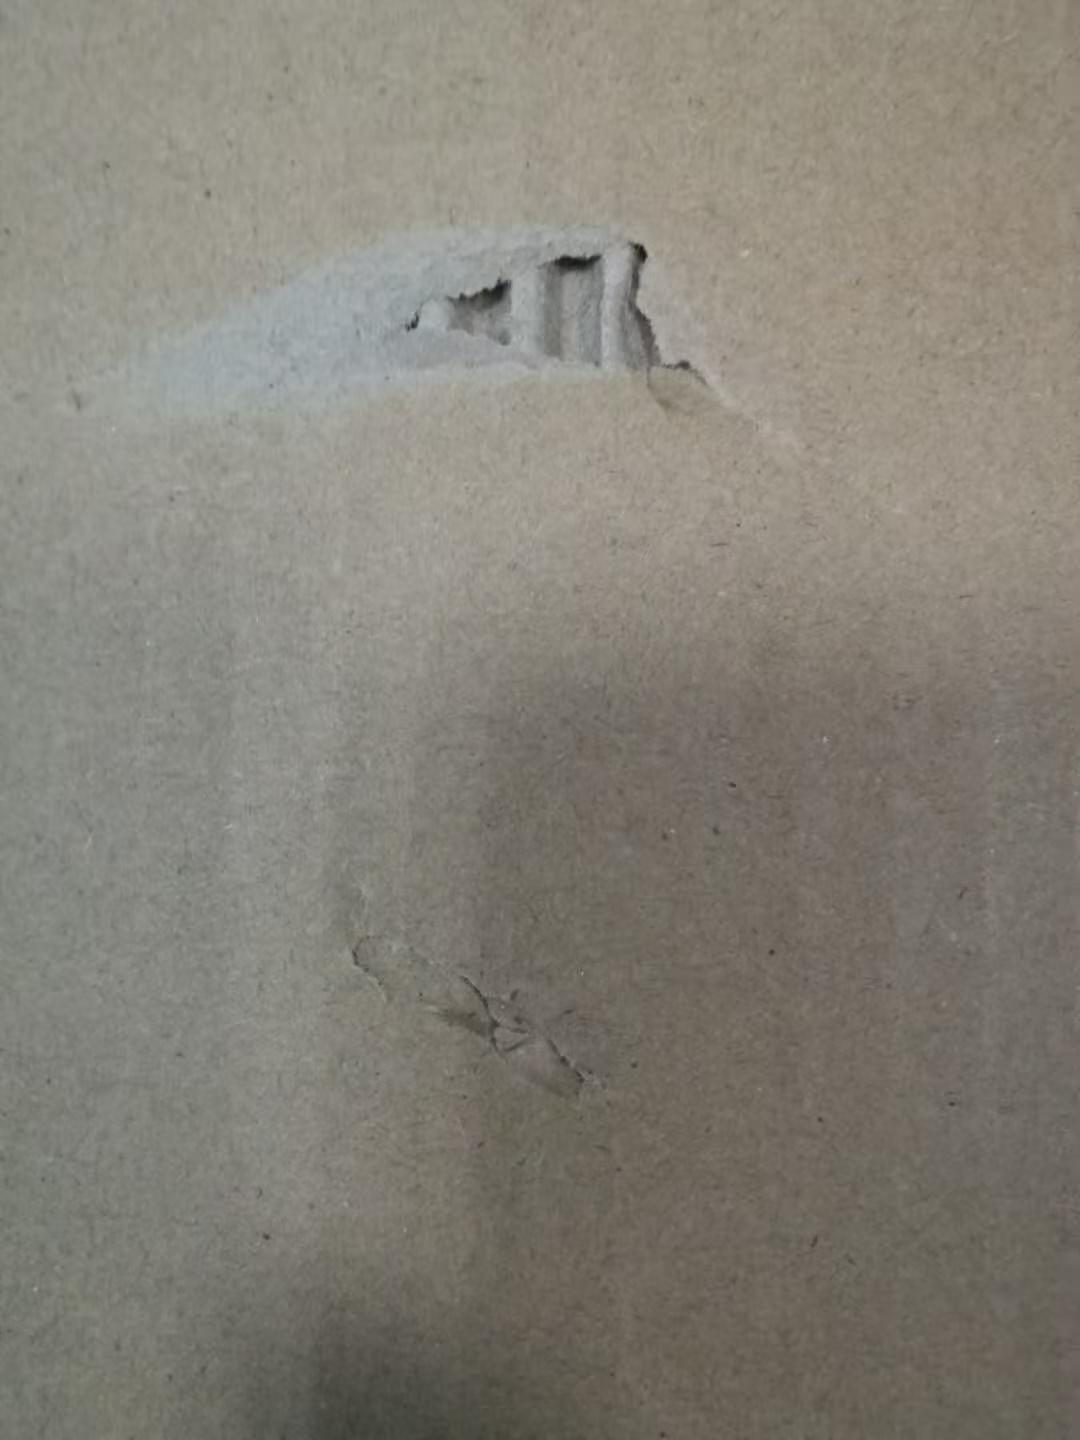defect: (65, 175, 788, 471), (315, 879, 638, 1125)
